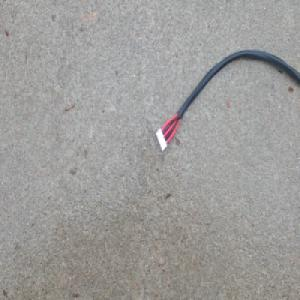Wire: (154, 48, 300, 152)
